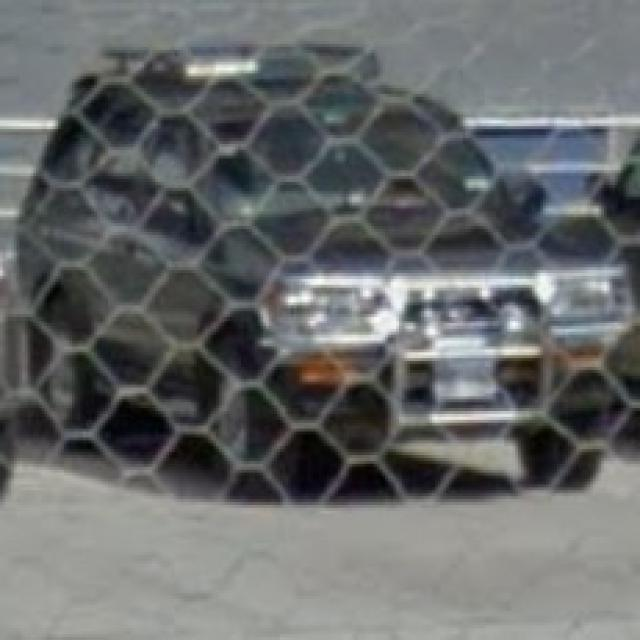car: (18, 50, 608, 520)
